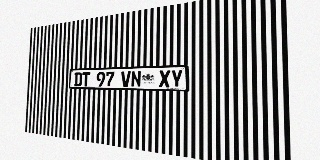plate: (69, 65, 189, 91)
